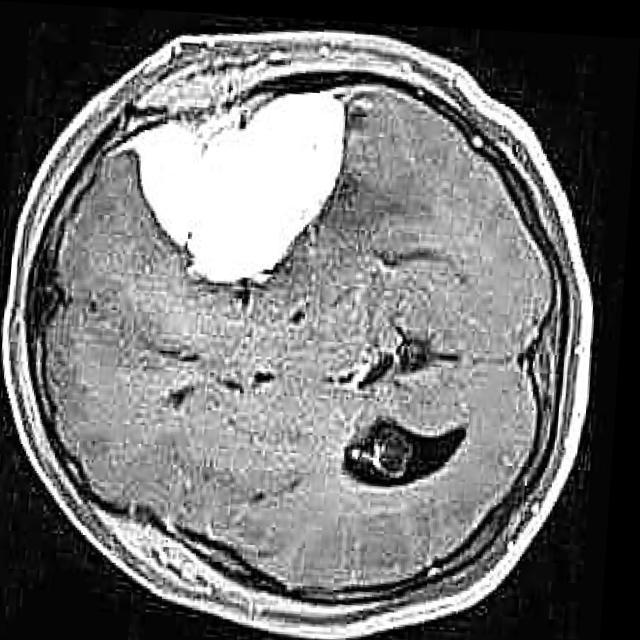Tumor: (133, 84, 344, 279)
